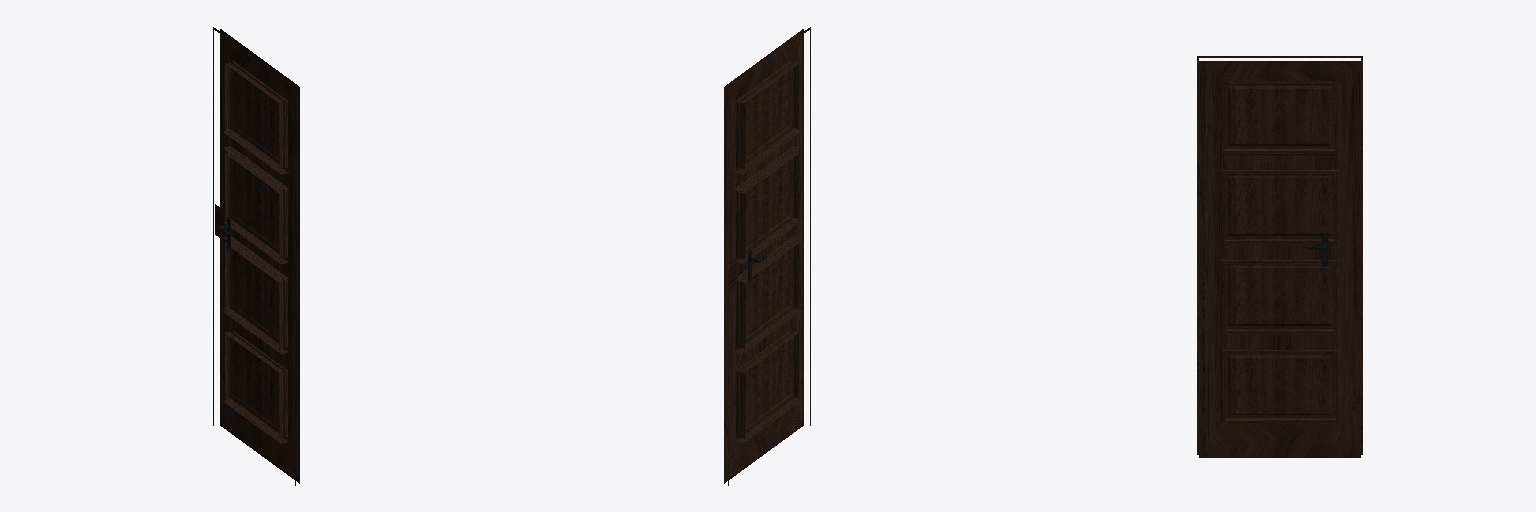
The picture shows the model from 3 angles: view 1: azimuth 30°, elevation 25°; view 2: azimuth 150°, elevation 25°; view 3: azimuth 270°, elevation 25°; orthographic projection.
Parts seen in each view (by area): view 1: m16; view 2: m16; view 3: m16.
Boxes of the visible parts, x1,y1,x2,y2 form: m16: [213, 27, 299, 485]; m16: [724, 27, 810, 485]; m16: [1197, 56, 1362, 457].
Size of the model in its own units: 157 by 2030 by 767.
2 materials, 1 textured.